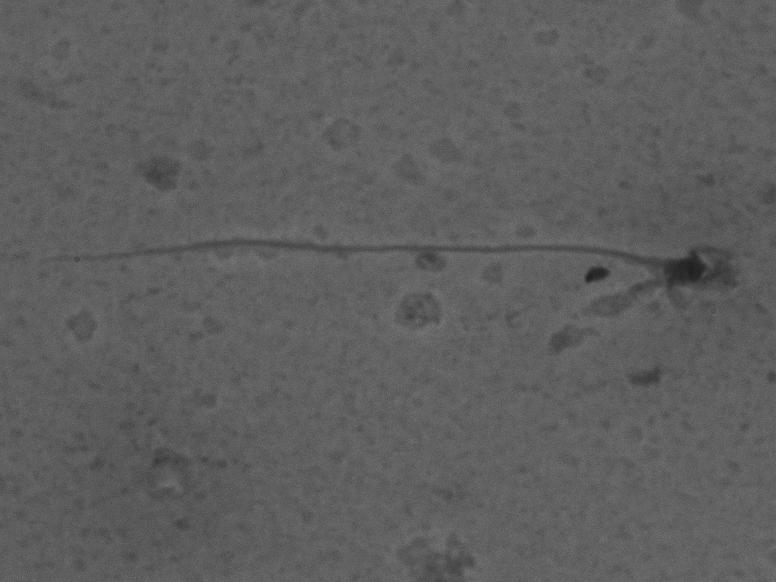Abnormal: (52, 167, 724, 329)
